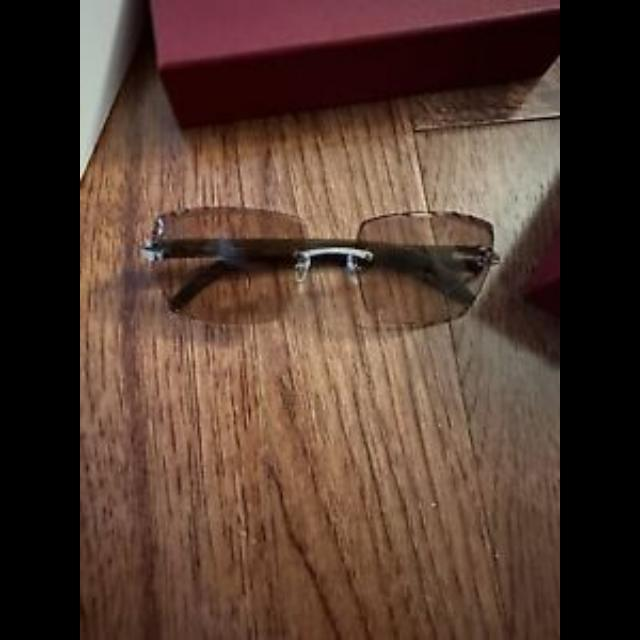glasses: (135, 197, 548, 336)
